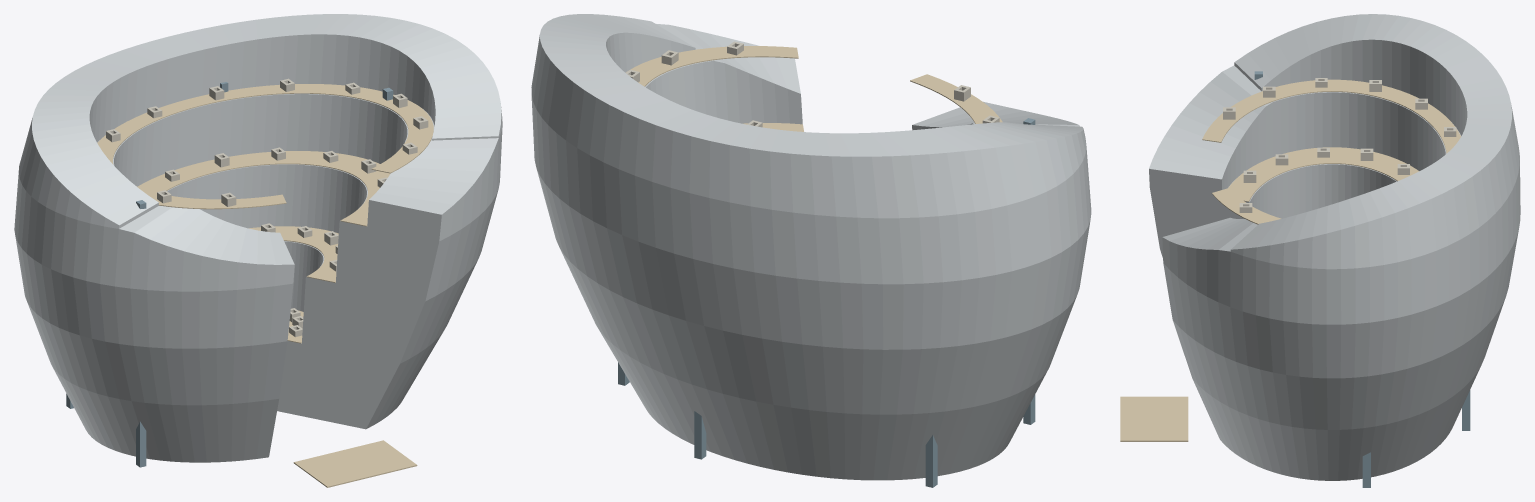
The picture shows the model from 3 angles, left to right: view 1: azimuth 30°, elevation 25°; view 2: azimuth 150°, elevation 25°; view 3: azimuth 270°, elevation 25°; orthographic projection. The views are drawn at different scales.
Parts seen in each view (by area): view 1: N1R1_city_shell_3, N1R1_city_shell_4, N1R1_city_shell_2, N1R1_city_shell_1, N1R1_city_shell_0, N1R1_ground_public, N1R1_lift_3; view 2: N1R1_city_shell_4, N1R1_city_shell_3, N1R1_city_shell_2, N1R1_city_shell_1, N1R1_city_shell_0, N1R1_lift_2; view 3: N1R1_city_shell_3, N1R1_city_shell_4, N1R1_city_shell_2, N1R1_city_shell_1, N1R1_city_shell_0, N1R1_ground_public.
Boxes of the visible parts, x1=… form: N1R1_city_shell_3: x1=14, y1=93, x2=502, y2=291; N1R1_city_shell_4: x1=18, y1=14, x2=502, y2=228; N1R1_city_shell_2: x1=15, y1=164, x2=498, y2=348; N1R1_city_shell_1: x1=27, y1=241, x2=477, y2=405; N1R1_city_shell_0: x1=52, y1=332, x2=442, y2=462; N1R1_ground_public: x1=293, y1=440, x2=417, y2=487; N1R1_lift_3: x1=136, y1=200, x2=146, y2=467; N1R1_city_shell_4: x1=531, y1=14, x2=1086, y2=218; N1R1_city_shell_3: x1=531, y1=24, x2=1091, y2=284; N1R1_city_shell_2: x1=536, y1=169, x2=1090, y2=349; N1R1_city_shell_1: x1=560, y1=248, x2=1076, y2=414; N1R1_city_shell_0: x1=598, y1=328, x2=1048, y2=480; N1R1_lift_2: x1=925, y1=435, x2=937, y2=487; N1R1_city_shell_3: x1=1149, y1=65, x2=1520, y2=324; N1R1_city_shell_4: x1=1230, y1=14, x2=1519, y2=269; N1R1_city_shell_2: x1=1150, y1=164, x2=1518, y2=378; N1R1_city_shell_1: x1=1160, y1=249, x2=1505, y2=429; N1R1_city_shell_0: x1=1192, y1=365, x2=1481, y2=480; N1R1_ground_public: x1=1120, y1=396, x2=1188, y2=441.
Size of the model in its own units: 5023 by 3238 by 3822.
